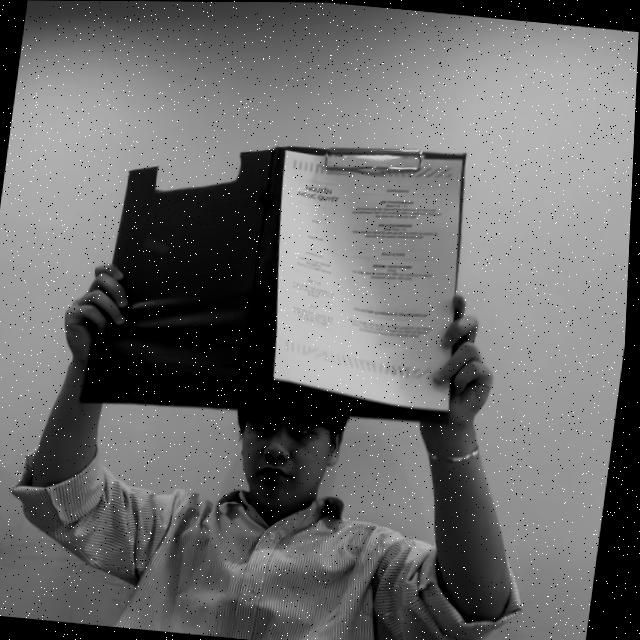document: (274, 151, 462, 411)
face: (231, 410, 349, 519)
